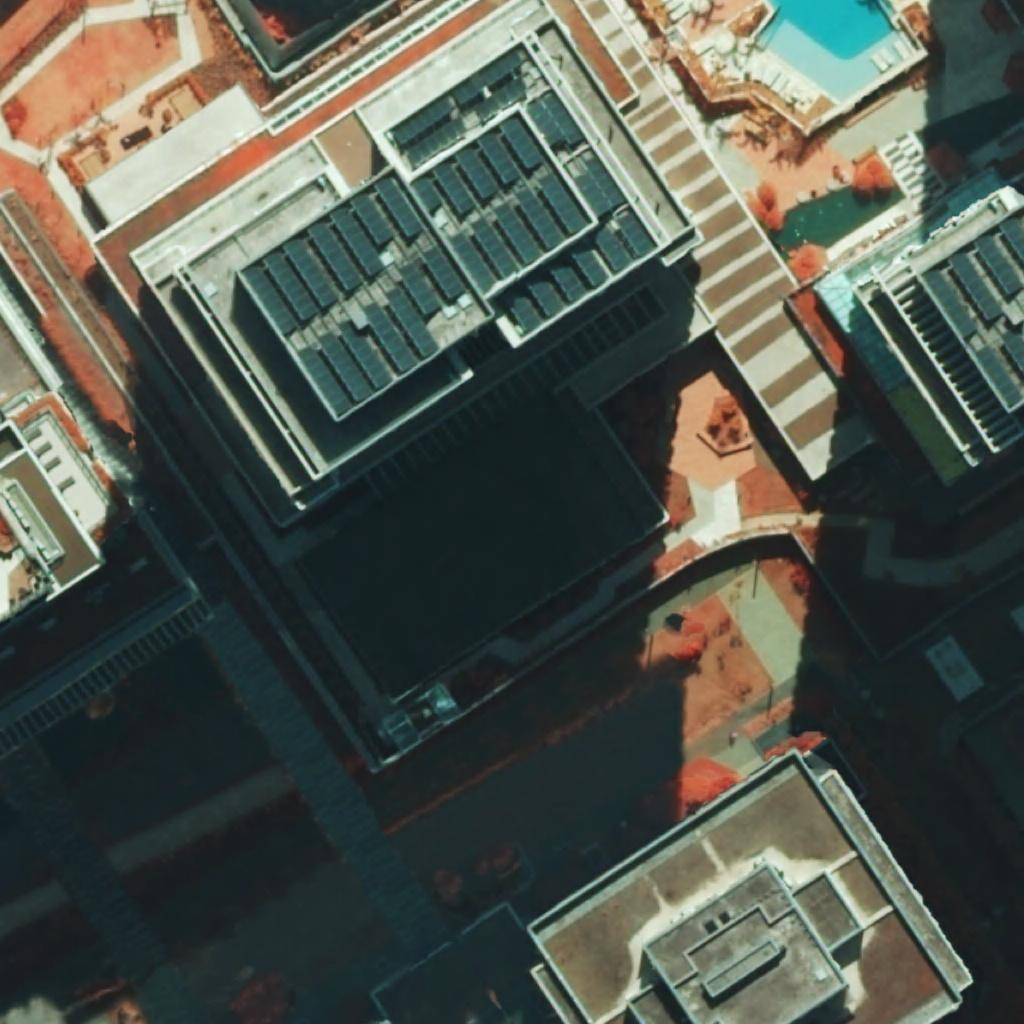pool: (766, 185, 906, 262), (759, 0, 897, 60)
